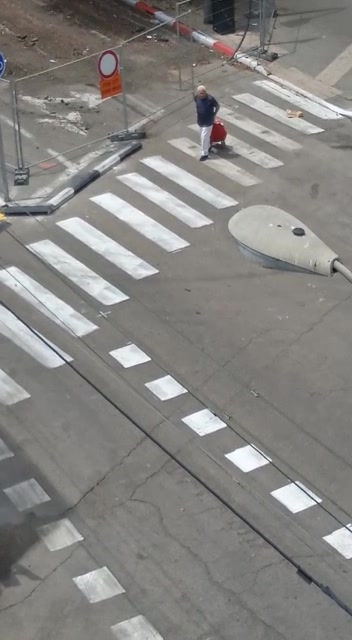crosswalk: (1, 62, 313, 352)
person: (186, 77, 237, 172)
